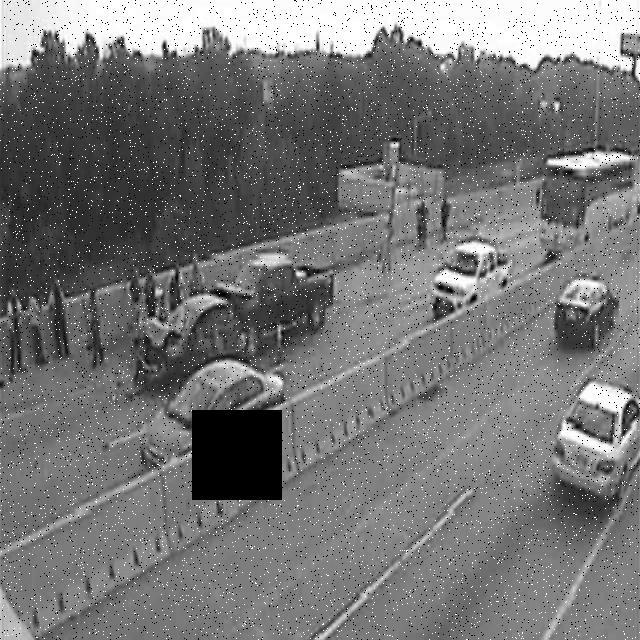moderate: (129, 245, 336, 392)
